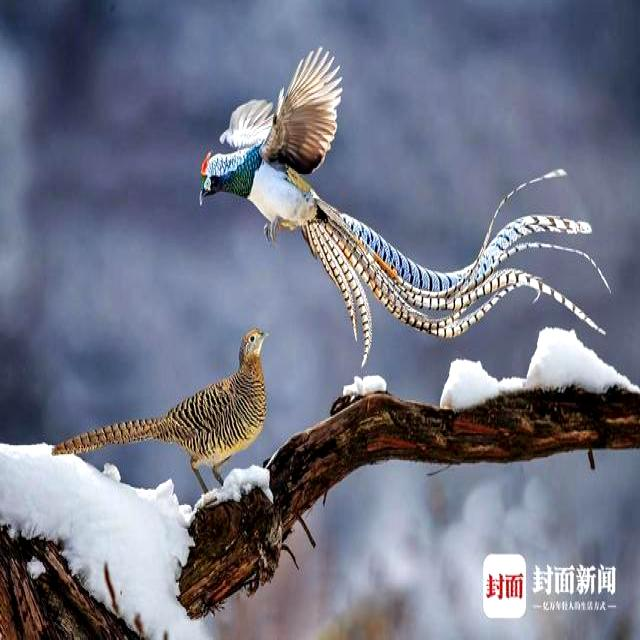Chrysolophus amherstiae: (303, 207, 589, 361)
